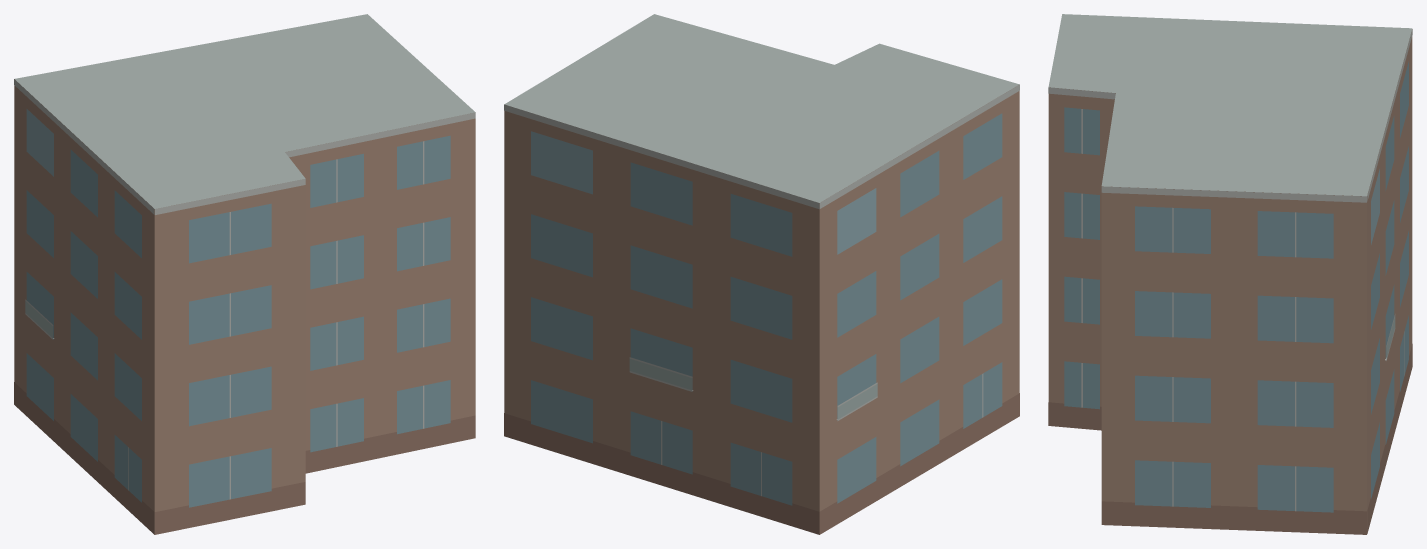
File: survey-upis-32595645.glb
The picture shows the model from 3 angles, left to right: view 1: azimuth 30°, elevation 25°; view 2: azimuth 150°, elevation 25°; view 3: azimuth 270°, elevation 25°; orthographic projection. The views are drawn at different scales.
Visible parts, largest first — view 1: survey-upis-32595645.tmp; view 2: survey-upis-32595645.tmp; view 3: survey-upis-32595645.tmp.
Boxes of the visible parts, left/top/right/bottom form: survey-upis-32595645.tmp: left=14, top=14, right=475, bottom=534; survey-upis-32595645.tmp: left=504, top=14, right=1019, bottom=534; survey-upis-32595645.tmp: left=1048, top=14, right=1412, bottom=534.
Size of the model in its own units: 14.91 by 12.9 by 12.58.
